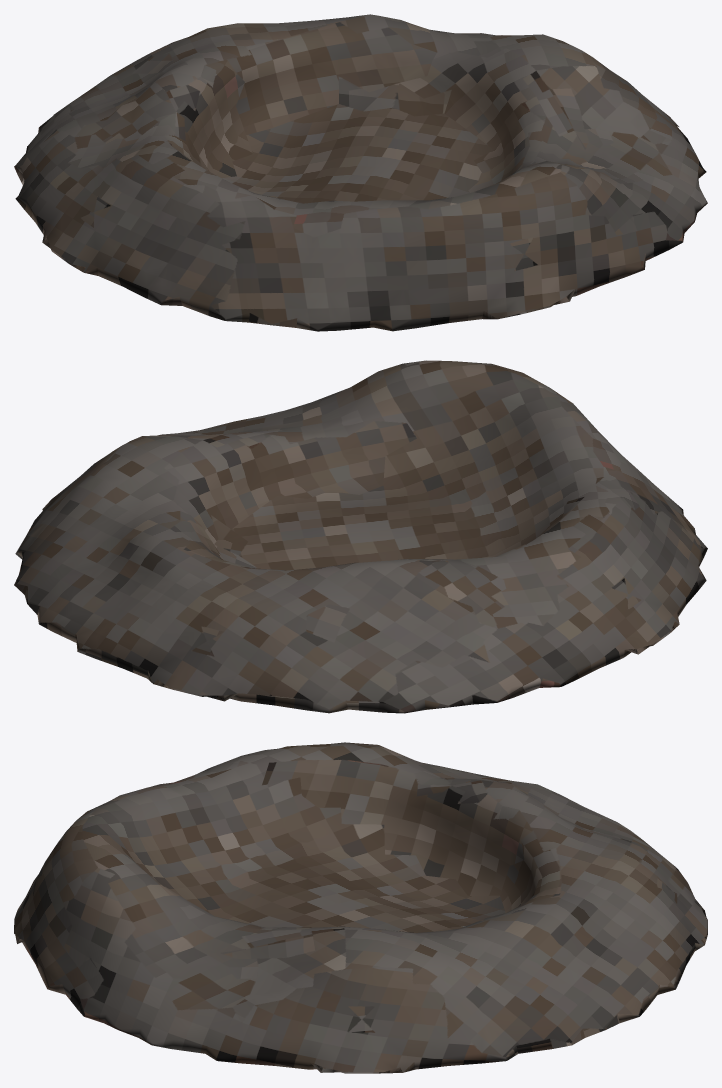
File: pothole.glb
3 renders of one model, top to bottom at view 1: azimuth 30°, elevation 25°; view 2: azimuth 150°, elevation 25°; view 3: azimuth 270°, elevation 25°, orthographic.
Parts seen in each view (by area): view 1: Cone; view 2: Cone; view 3: Cone.
Part boxes in pixels (x1,y1,x2,y2): Cone: (14, 14, 707, 331); Cone: (14, 360, 707, 713); Cone: (14, 742, 707, 1073).
Bounding box in the file's own units: 1.97 × 0.3451 × 1.98.
Materials: 1 (1 with a texture image).
